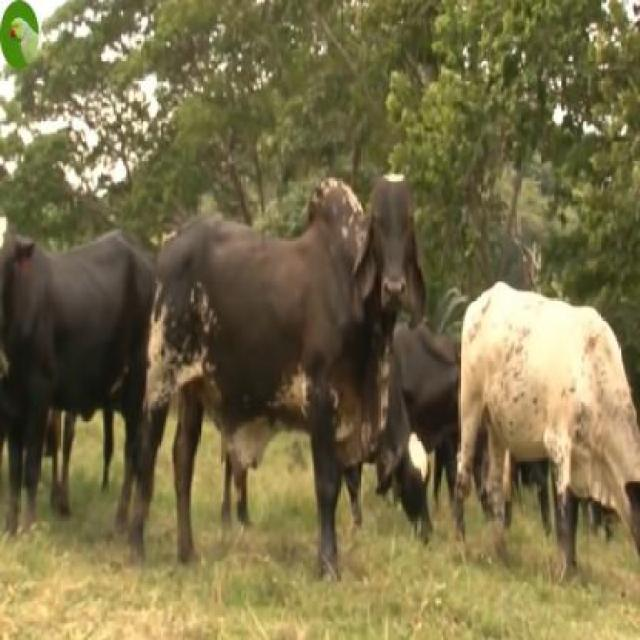Cow: (126, 169, 426, 582)
